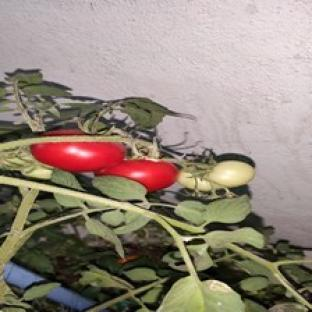Tomato: (31, 130, 126, 172), (97, 159, 178, 192), (207, 161, 254, 188), (177, 170, 211, 192), (21, 168, 52, 179)
